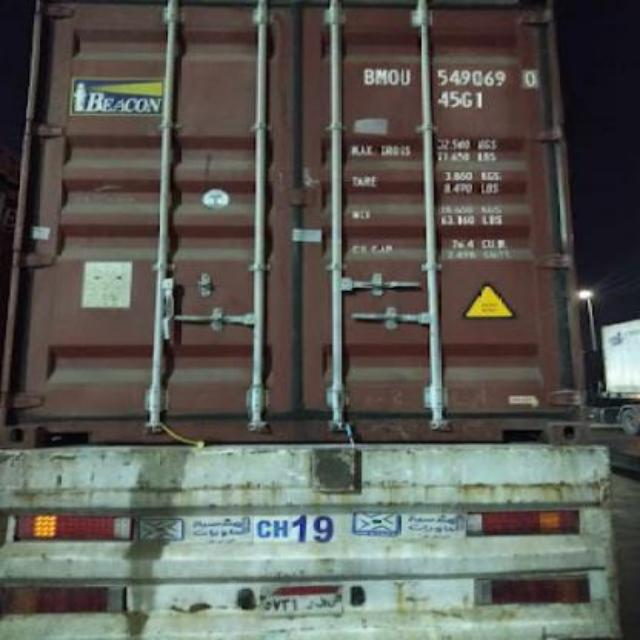0: (464, 65, 486, 91), (522, 70, 542, 88)
4: (446, 69, 459, 85)
5: (436, 63, 446, 87)
6: (481, 60, 494, 90)
9: (456, 66, 474, 88), (496, 66, 509, 90)
B: (366, 66, 376, 86)
M: (376, 64, 386, 85)
O: (384, 63, 400, 93)
U: (396, 70, 414, 86)
